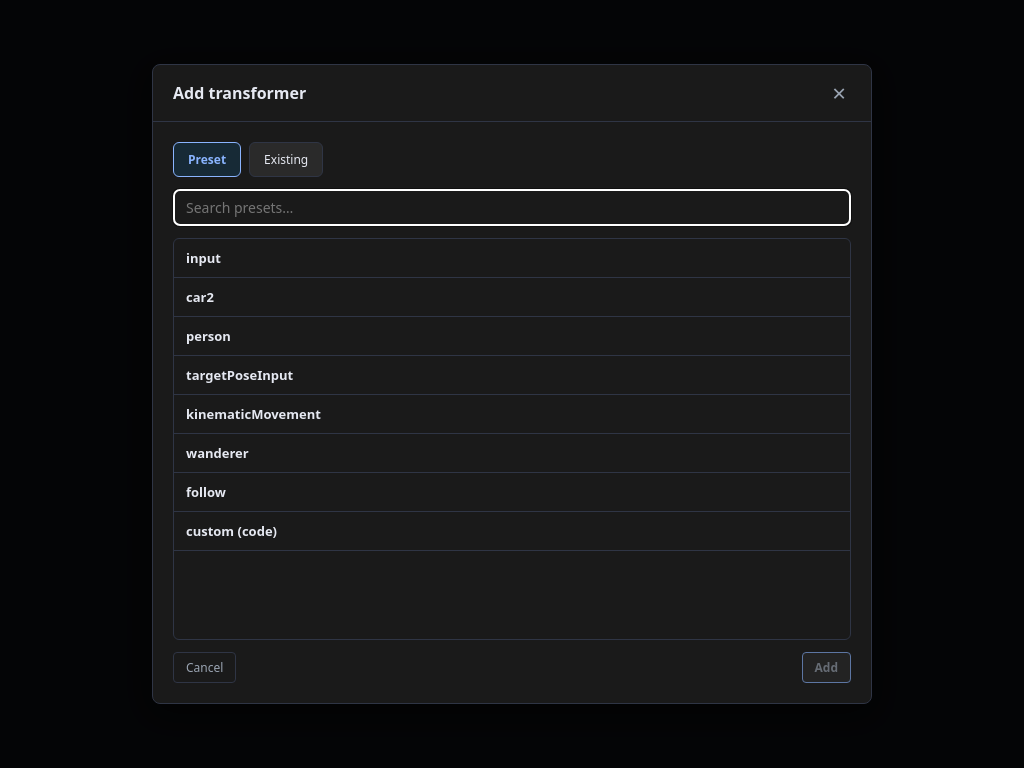
Test: AddTransformerDialog › filters existing stacks by search
Click the tab with test id "add-transformer-tab-existing".
click(286, 160)  # box 249,142 -> 323,177
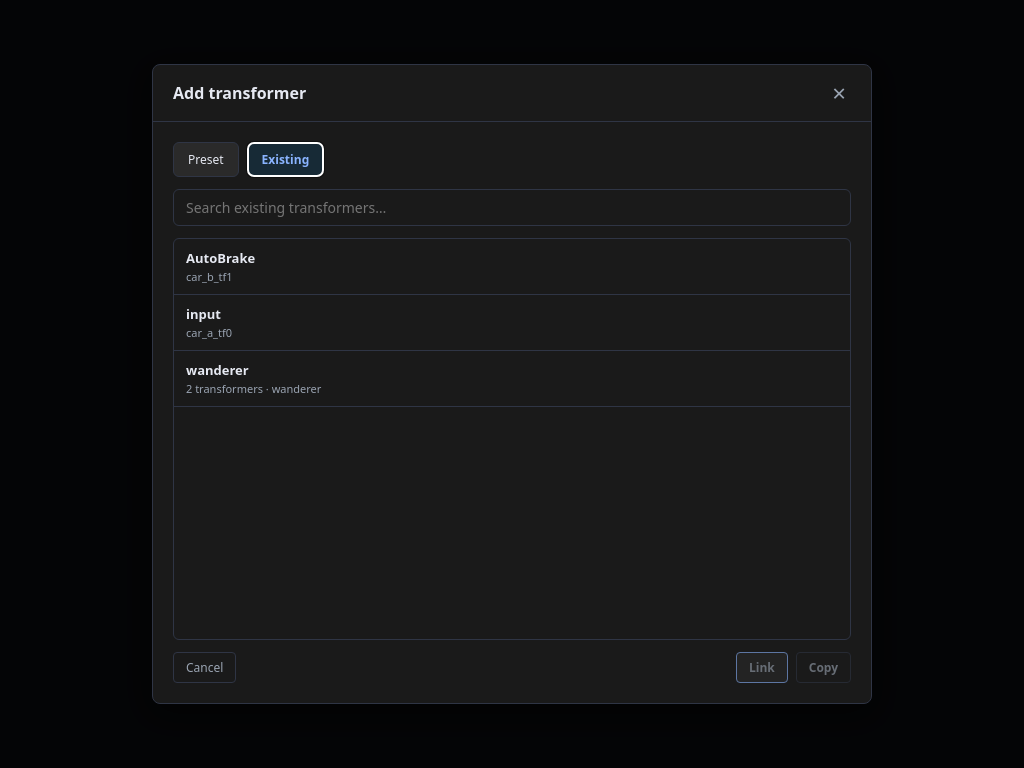
Type "auto" into the field with test id "add-transformer-search".
click(512, 208); type("auto")  # box 173,189 -> 851,226
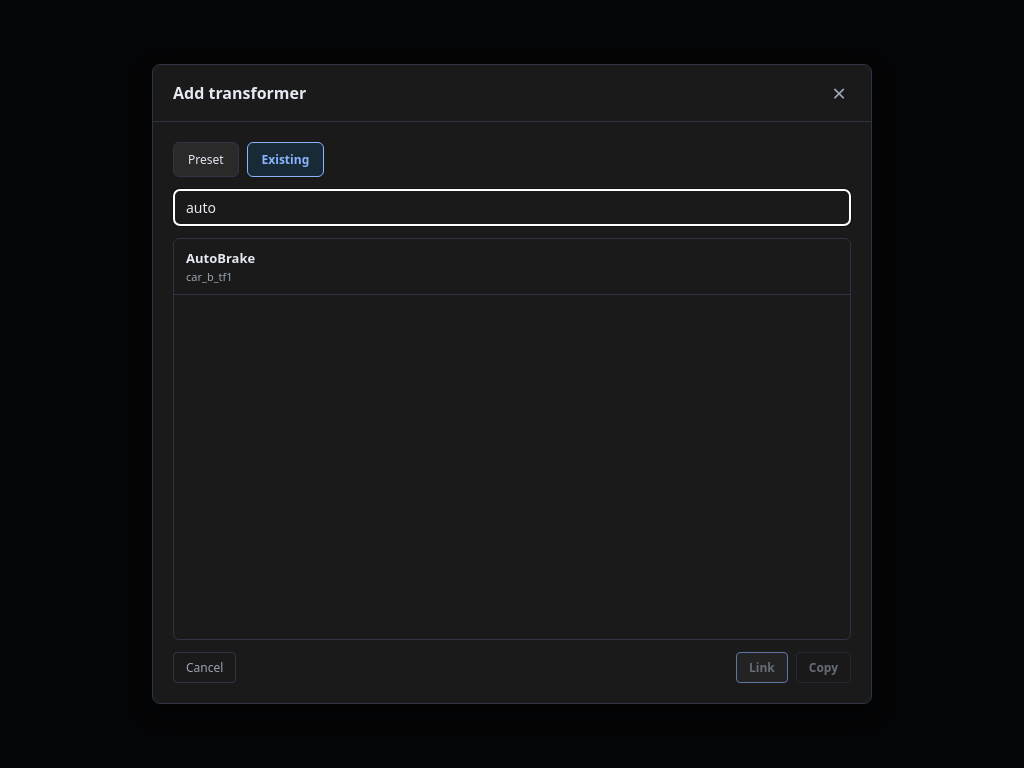
Expected: the text "AutoBrake" is shown, 186,249 -> 255,267
Expected: the option "2 transformers · wanderer" is gone
